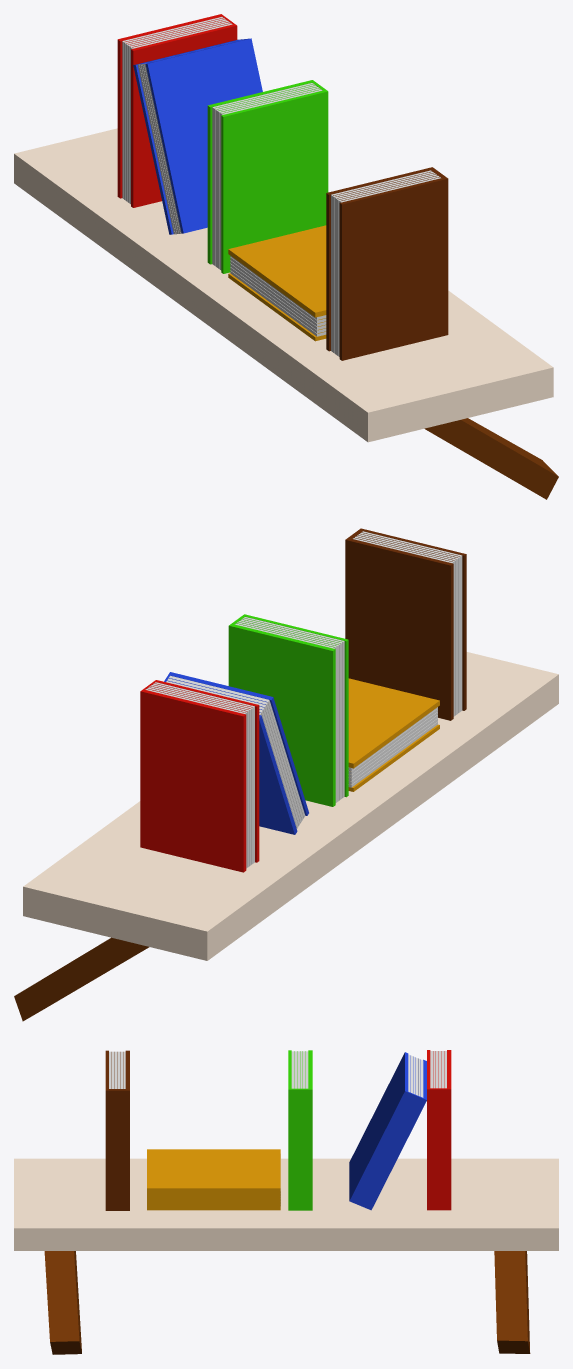
File: Shelf 1.fbx
The picture shows the model from 3 angles, top to bottom: view 1: azimuth 30°, elevation 25°; view 2: azimuth 150°, elevation 25°; view 3: azimuth 270°, elevation 25°; orthographic projection. The views are drawn at different scales.
Visible parts, largest first — view 1: Cube, Book5, Book3, Book2, Book1, Book4, Cube.001, Book1.004, Book1.001, Book1.008, Book1.006, Book1.002; view 2: Cube, Book1, Book5, Book3, Book4, Book2, Cube.001, Book1.004, Book1.008, Book1.001, Book1.002, Book1.006; view 3: Cube, Book4, Cube.001, Book2, Book3, Book1, Book5, Book1.004, Book1.001, Book1.008, Book1.002.
Part boxes in pixels (x1,y1,x2,y2): Cube: (14,128,553,442); Book5: (326,167,448,360); Book3: (207,80,328,273); Book2: (133,38,262,234); Book1: (117,14,237,207); Book4: (228,225,326,341); Cube.001: (424,418,558,499); Book1.004: (212,83,322,270); Book1.001: (122,17,232,204); Book1.008: (331,170,440,356); Book1.006: (230,256,326,336); Book1.002: (138,63,181,234); Cube: (23,652,558,960); Book1: (140,680,259,872); Book5: (345,528,466,720); Book3: (228,614,348,806); Book4: (348,678,439,791); Book2: (164,672,308,834); Cube.001: (14,937,149,1021); Book1.004: (235,617,344,802); Book1.008: (353,531,462,716); Book1.001: (145,682,254,868); Book1.002: (166,675,305,828); Book1.006: (348,707,437,787); Cube: (14,1158,558,1250); Book4: (147,1149,280,1210); Cube.001: (44,1251,530,1354); Book2: (349,1052,426,1210); Book3: (288,1050,312,1210); Book1: (427,1050,451,1210); Book5: (105,1050,129,1210); Book1.004: (291,1051,308,1088); Book1.001: (430,1051,446,1088); Book1.008: (109,1051,125,1088); Book1.002: (408,1054,423,1097).
Bounding box in the file's own units: 457 × 629 × 1292.
